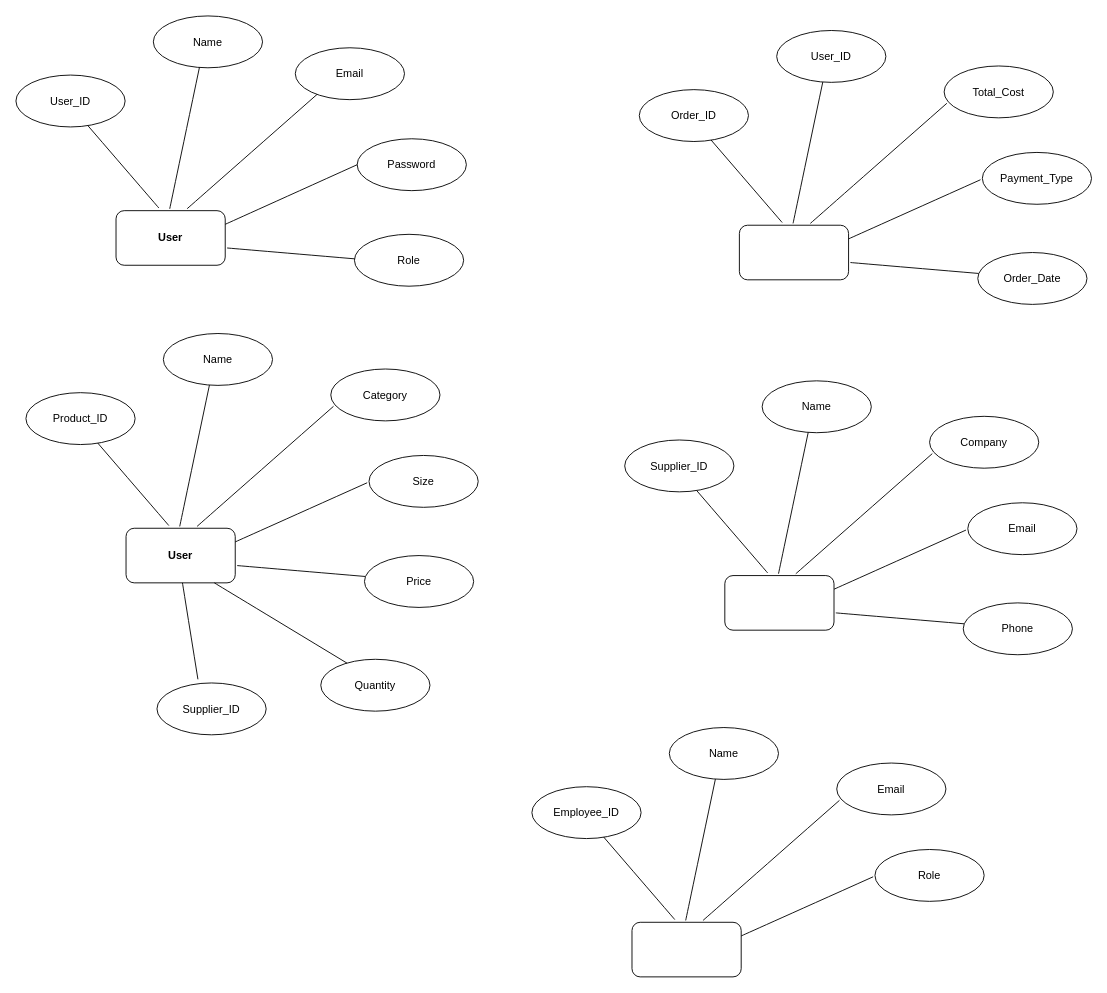
This 1107x993 diagram has some shape labels left out. The shapes that lost their labels are listed below. From the top down, each one's centre as x and y in pixels, then its label:
point (793, 252): Order
point (779, 602): Supplier
point (686, 949): Employee
